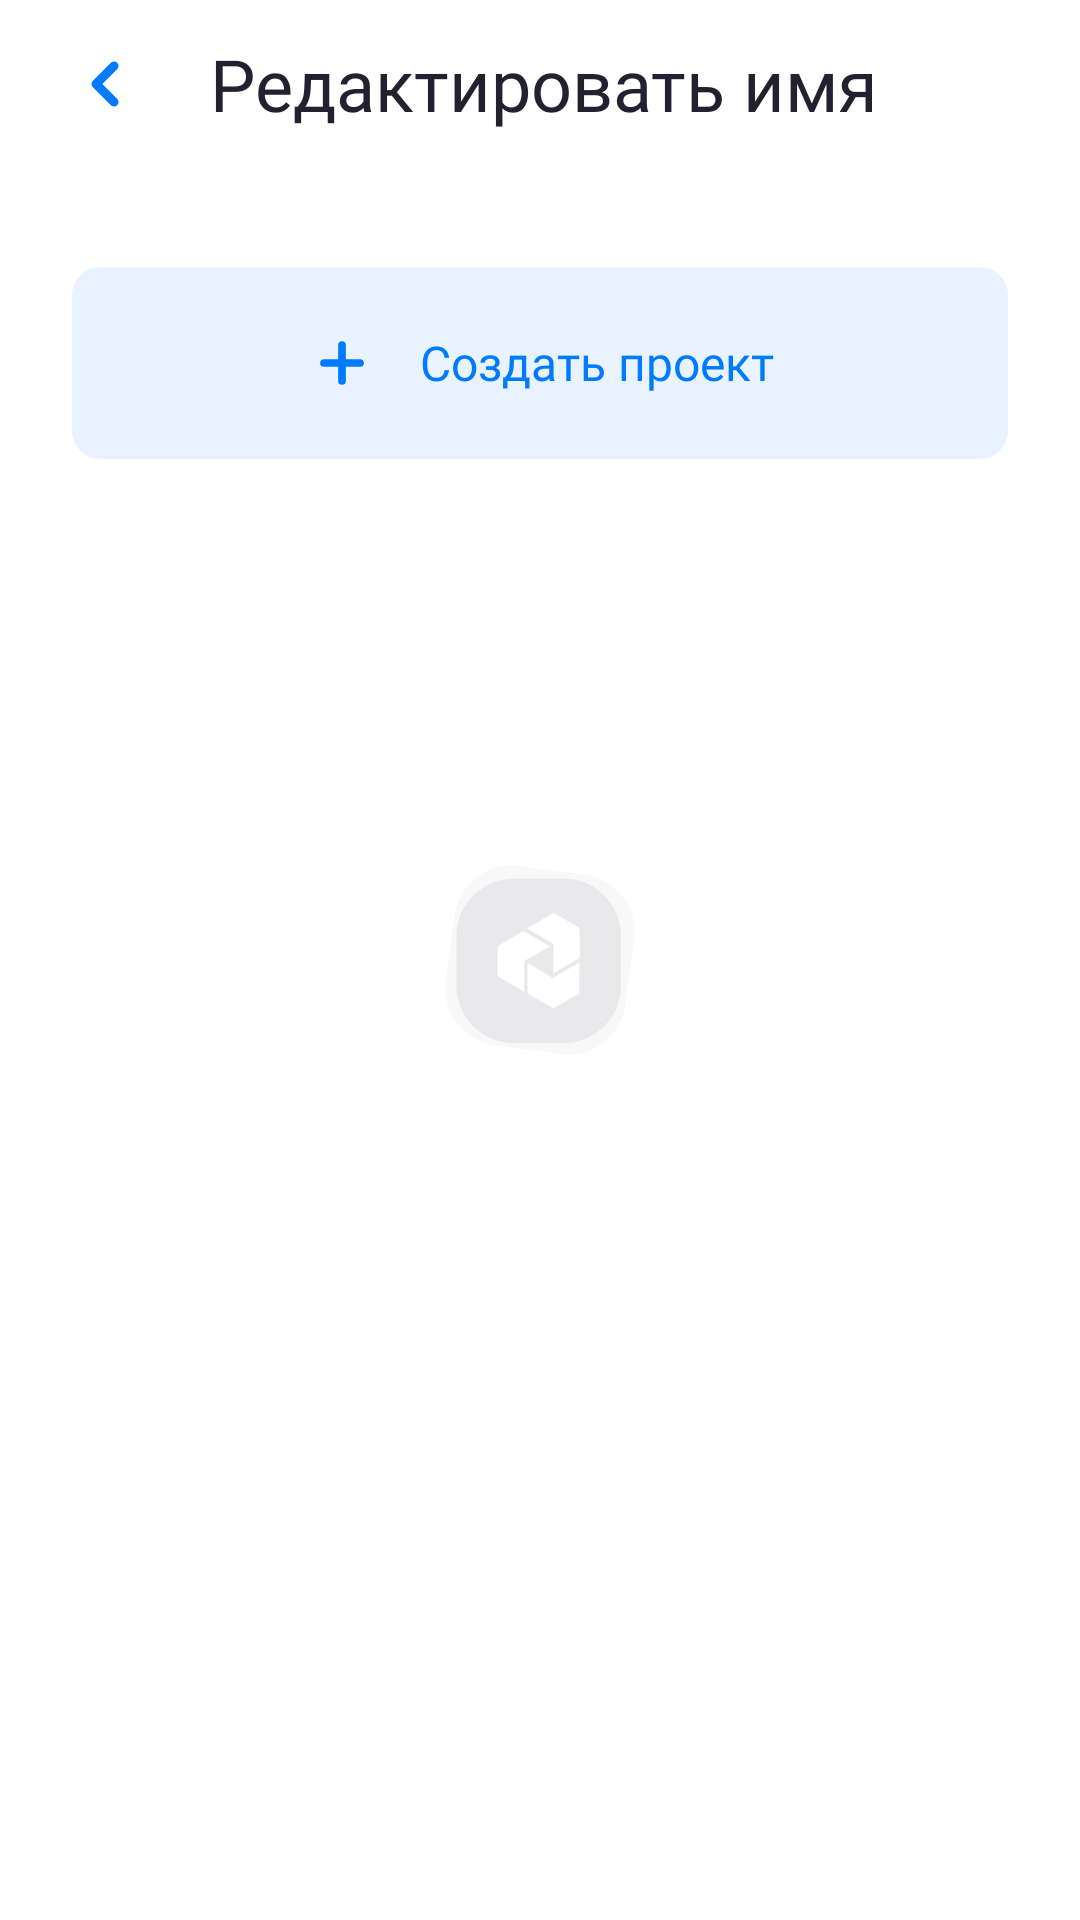

Named icons in this screenshot (1080 × 1920) and their bounding boxes, (x1, y1, x2, y2):
plus: (320, 341, 364, 385)
